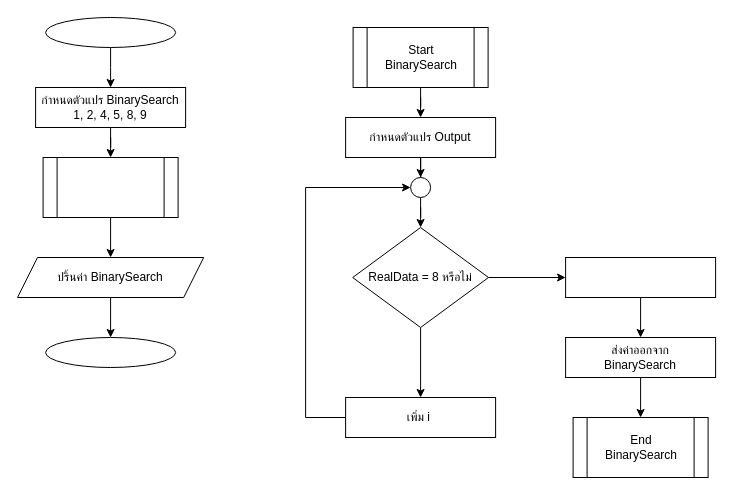
Some shapes in this 734 by 495 pixel diagram are drawn without their labels. Here are the shapes that lost their labels. From the top down, the centre of each, then its label:
At [110,32]: "Start".
At [110,187]: "SequentialSearch (RealData, 6, 8)".
At [640,277]: "Break".
At [110,352]: "End".
